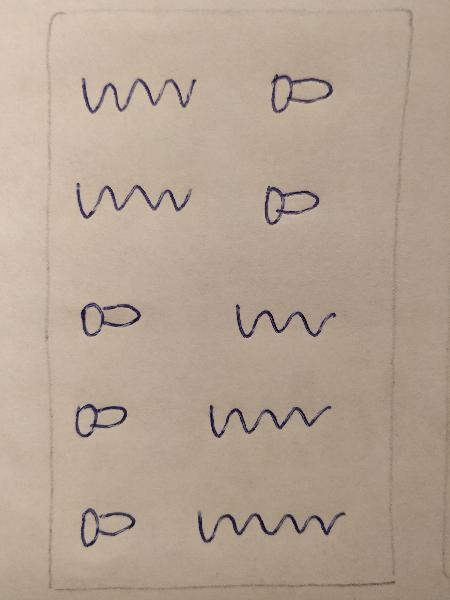switch: (260, 69, 346, 123), (70, 497, 148, 556), (70, 290, 149, 345), (257, 179, 326, 240), (67, 395, 139, 450)
text: (189, 501, 356, 559), (199, 395, 334, 451), (227, 292, 344, 349), (77, 70, 199, 123), (71, 179, 197, 228)
